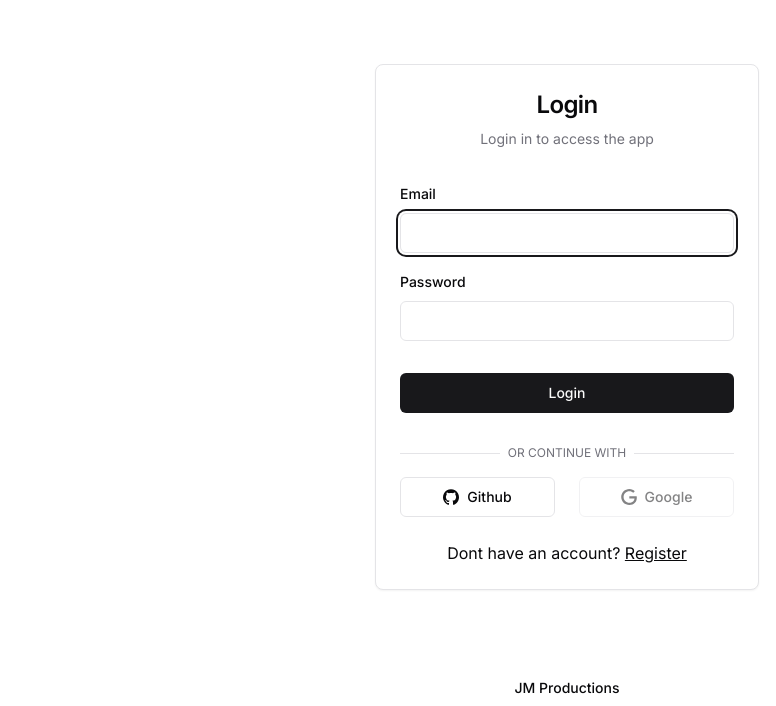
Test: Login form tests › Test with invalid email
Type "test" into the field with test id "login-email" at (567, 233), box 400,213 -> 734,253
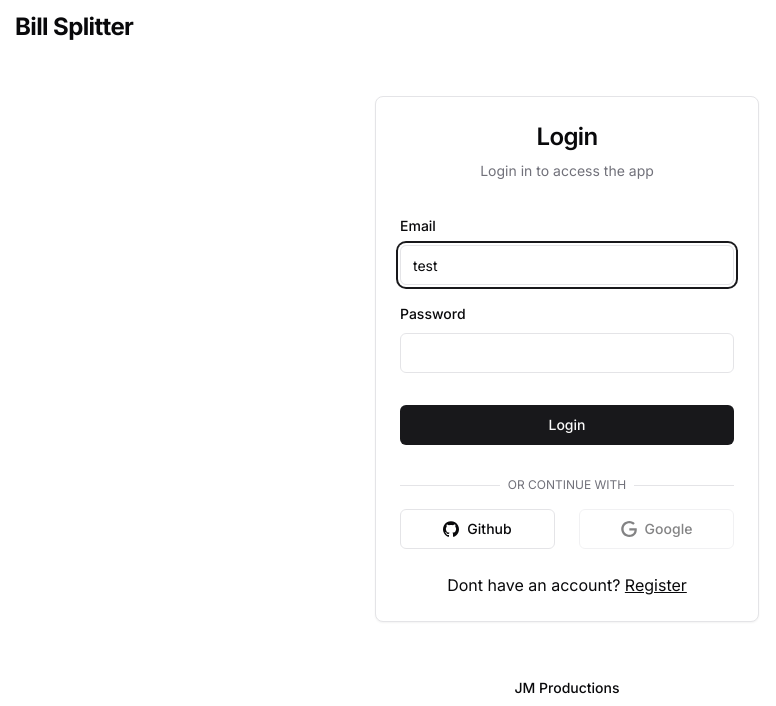
Type "password123" into the password field with test id "login-password" at (567, 353), box 400,333 -> 734,373
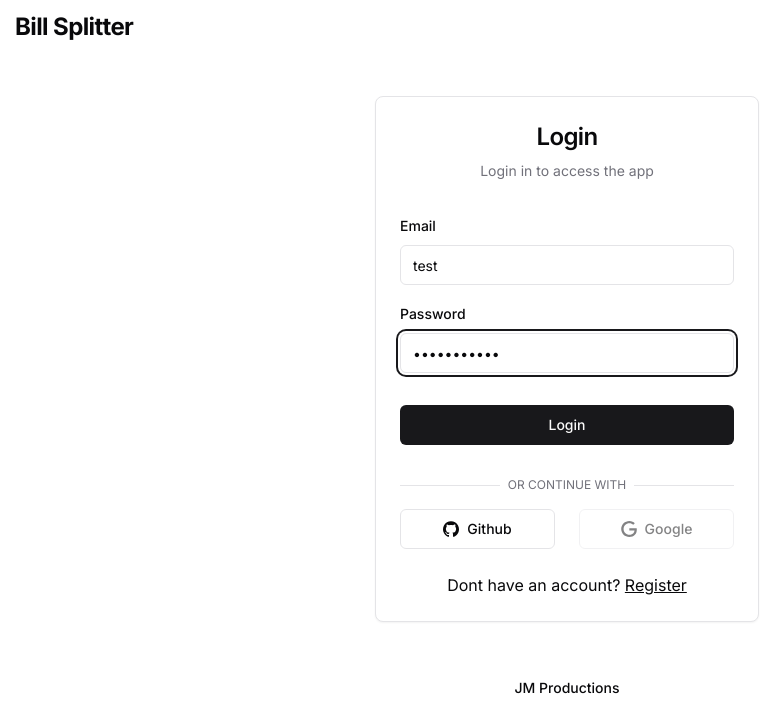
Click the button with test id "login-submit" at (567, 425), box 400,405 -> 734,445
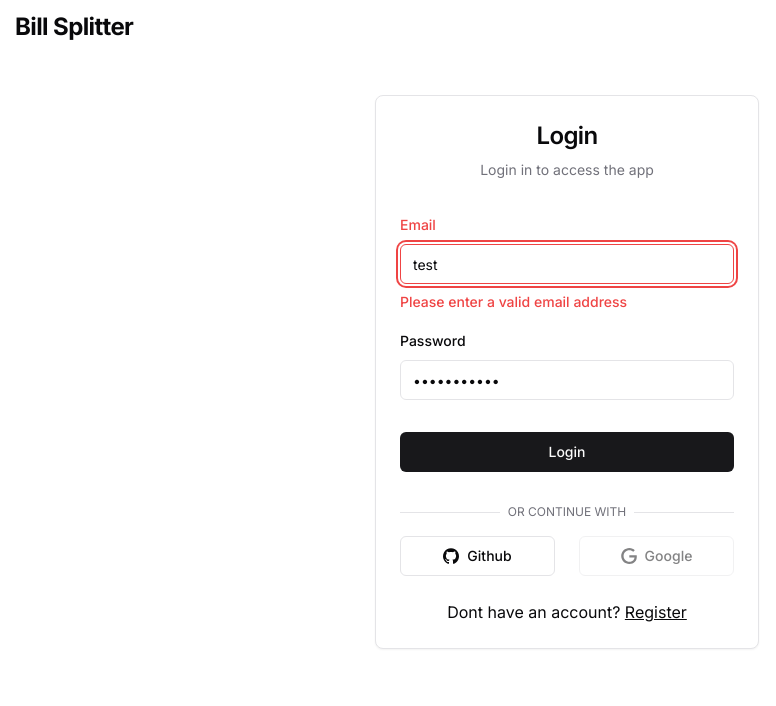
Expected: the form with test id "login-form" shows "Please enter a valid email address", 400,212 -> 734,488
